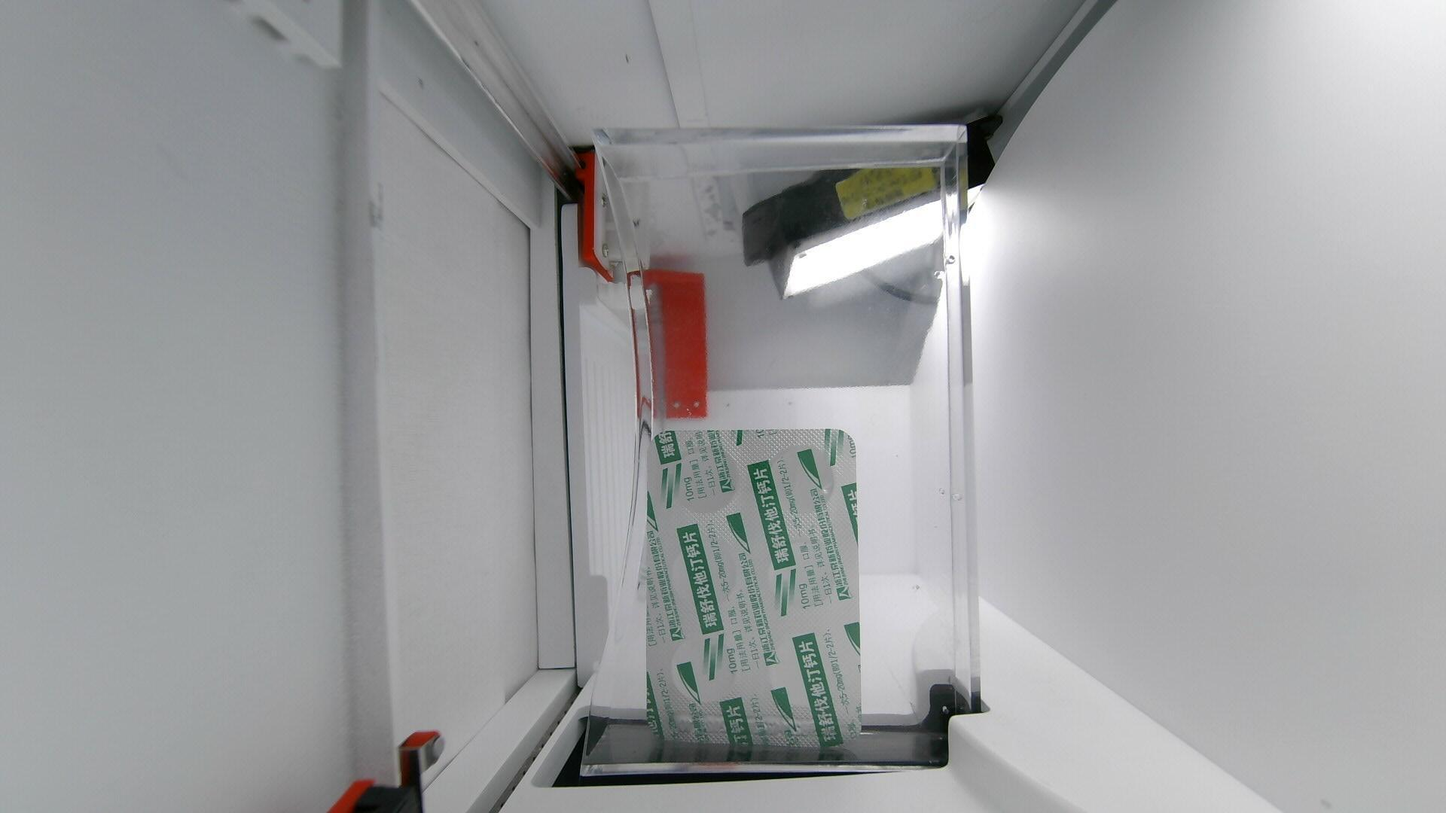Pill Back: (668, 633, 749, 702), (767, 535, 841, 606), (668, 534, 743, 604), (767, 443, 839, 509), (770, 641, 839, 709), (671, 451, 739, 510)
